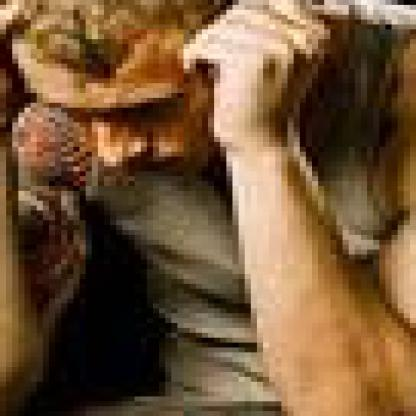gun: (196, 0, 312, 69)
